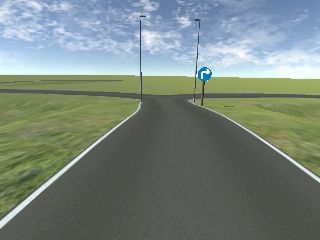right: (198, 67, 212, 82)
